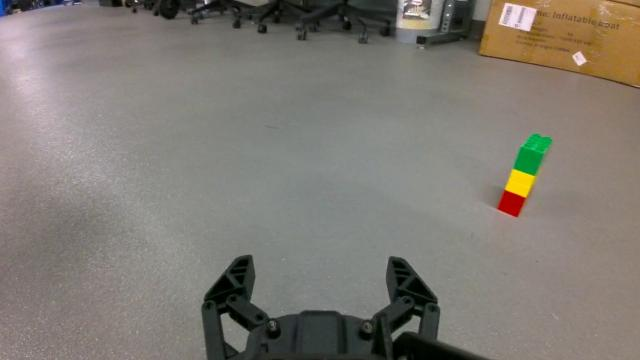lego: (497, 132, 553, 219)
